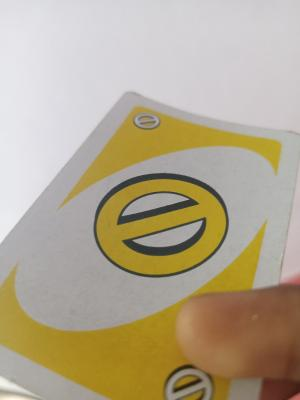skip: (162, 364, 215, 400), (130, 113, 161, 135)
yellow: (95, 126, 248, 393)
